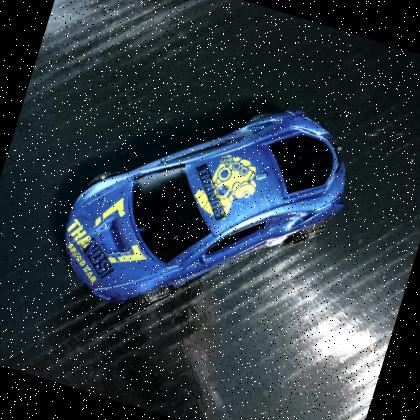Car: (37, 46, 376, 370)
